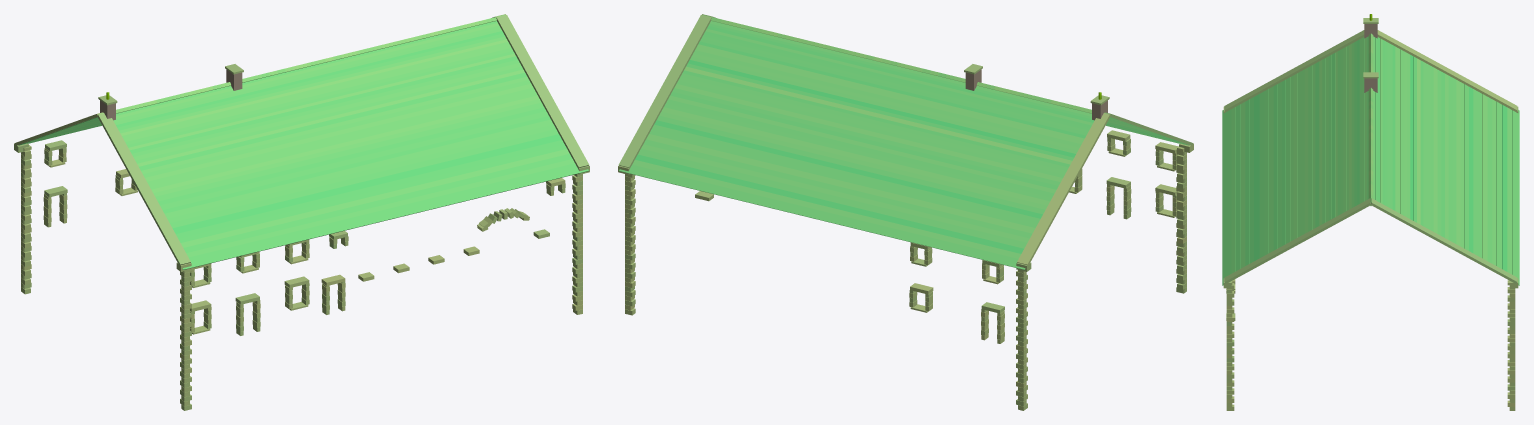
Rendered from SM_Bld_225_Stone.glb.
3 renders of one model, left to right at view 1: azimuth 30°, elevation 25°; view 2: azimuth 150°, elevation 25°; view 3: azimuth 270°, elevation 25°, orthographic. The views are drawn at different scales.
Parts seen in each view (by area): view 1: SM_Bld_225_Stone; view 2: SM_Bld_225_Stone; view 3: SM_Bld_225_Stone.
Part boxes in pixels (x1,y1,x2,y2): SM_Bld_225_Stone: [14, 14, 589, 410]; SM_Bld_225_Stone: [618, 14, 1193, 410]; SM_Bld_225_Stone: [1222, 14, 1519, 410].
Bounding box in the file's own units: 27.97 × 16.8 × 19.97.
